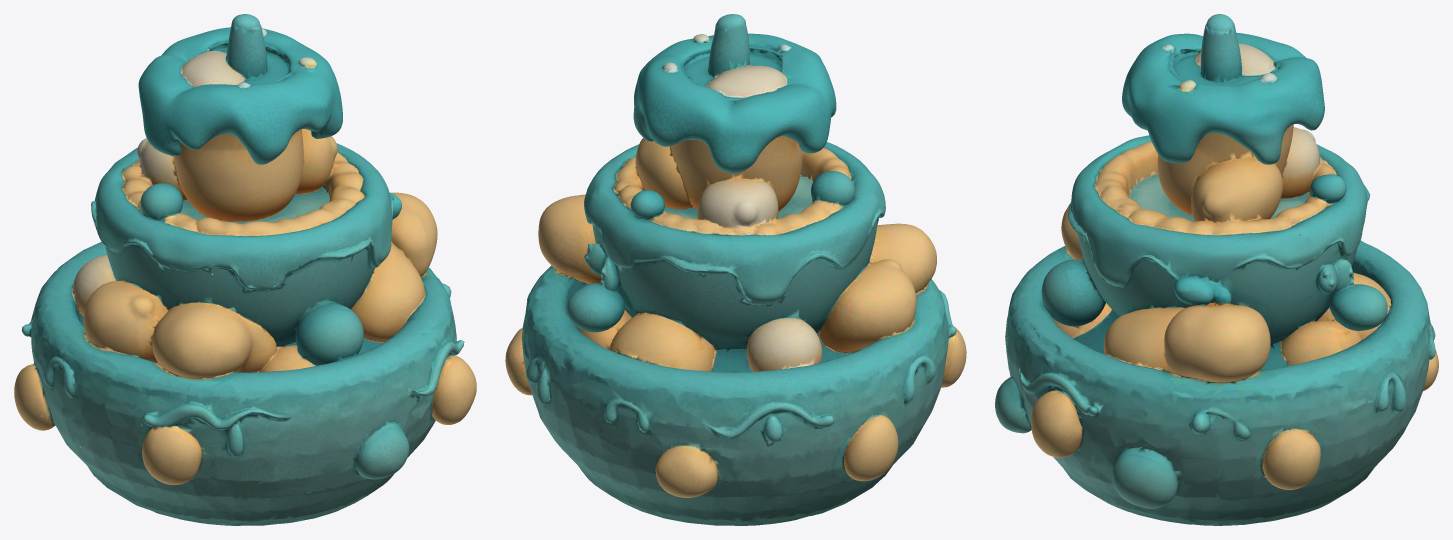
The model's file is env_nest_fountain_01.glb.
The picture shows the model from 3 angles, left to right: view 1: azimuth 30°, elevation 25°; view 2: azimuth 150°, elevation 25°; view 3: azimuth 270°, elevation 25°; orthographic projection.
Parts seen in each view (by area): view 1: tripo_node_6033d1a0-0aeb-43c6-aabe-884712cada69; view 2: tripo_node_6033d1a0-0aeb-43c6-aabe-884712cada69; view 3: tripo_node_6033d1a0-0aeb-43c6-aabe-884712cada69.
Boxes of the visible parts, x1,y1,x2,y2 form: tripo_node_6033d1a0-0aeb-43c6-aabe-884712cada69: (14,14,476,525); tripo_node_6033d1a0-0aeb-43c6-aabe-884712cada69: (505,14,966,525); tripo_node_6033d1a0-0aeb-43c6-aabe-884712cada69: (995,14,1438,525).
Bounding box in the file's own units: 2.32 × 2.6 × 2.29.
1 material, 1 textured.
